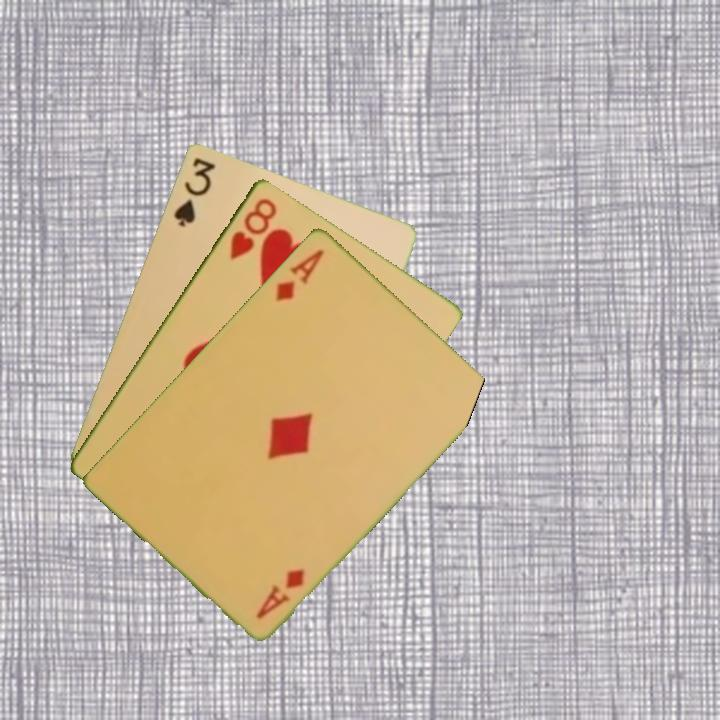3s: (170, 153, 218, 230)
8h: (226, 194, 280, 262)
Ad: (271, 245, 327, 304), (252, 564, 308, 622)
